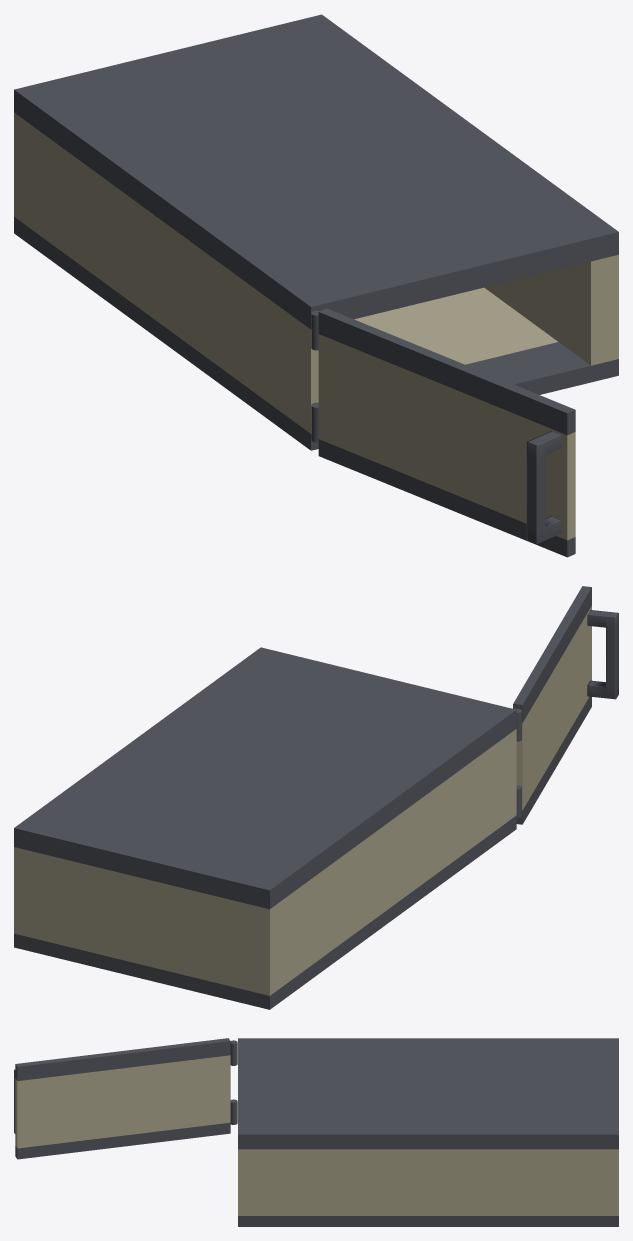
Rendered from openLockBox.fbx.
The picture shows the model from 3 angles, top to bottom: view 1: azimuth 30°, elevation 25°; view 2: azimuth 150°, elevation 25°; view 3: azimuth 270°, elevation 25°; orthographic projection. The views are drawn at different scales.
Parts seen in each view (by area): view 1: pCube1, pCube4; view 2: pCube1, pCube4; view 3: pCube1, pCube4, group2.
Part boxes in pixels (x1,y1,x2,y2): pCube1: (14,14,618,450); pCube4: (318,308,575,557); pCube1: (14,647,516,1009); pCube4: (513,586,618,824); pCube1: (238,1038,618,1226); pCube4: (14,1038,230,1159); group2: (230,1040,237,1124).
Bounding box in the file's own units: 24.5 × 10.88 × 64.52.
